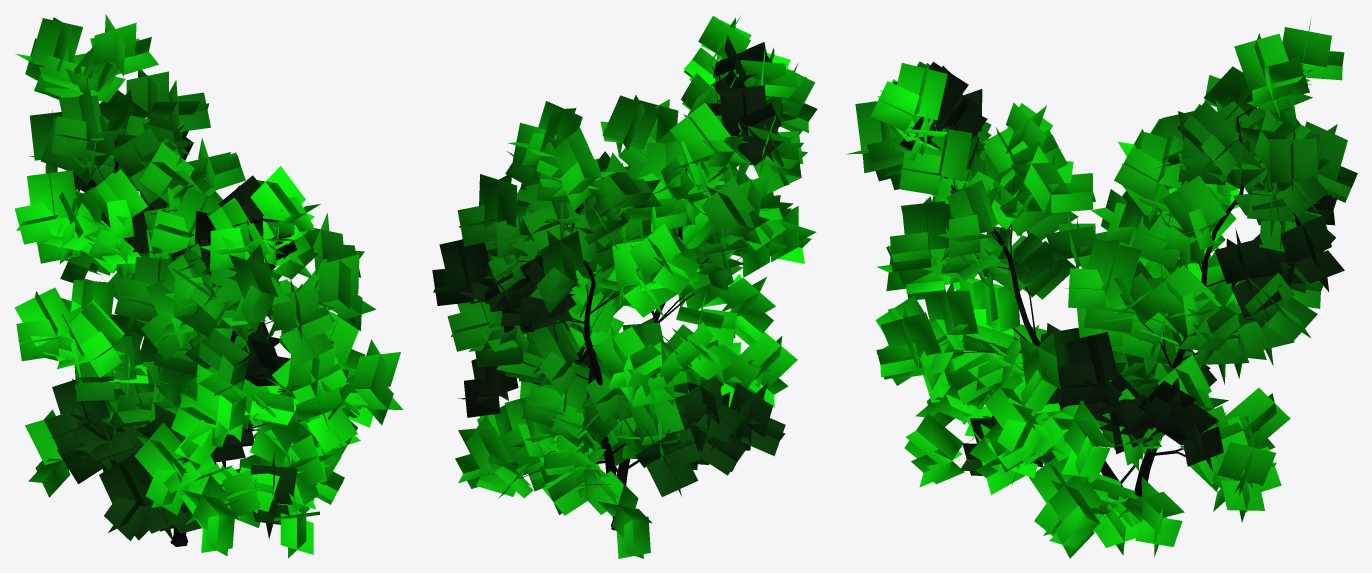
File: Type_1_5.fbx
3 views of the same model, side by side, from view 1: azimuth 30°, elevation 25°; view 2: azimuth 150°, elevation 25°; view 3: azimuth 270°, elevation 25° (orthographic). The views are drawn at different scales.
Parts seen in each view (by area): view 1: Type_1_5; view 2: Type_1_5; view 3: Type_1_5.
Part boxes in pixels (<box>): Type_1_5: <box>14,14,403,558</box>; Type_1_5: <box>432,16,817,558</box>; Type_1_5: <box>846,17,1357,558</box>.
Size of the model in its own units: 355 by 569 by 533.
